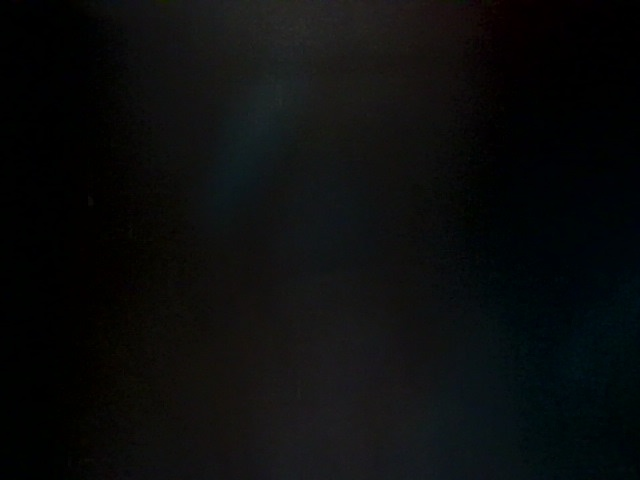CYLJ: (441, 190, 536, 306)
